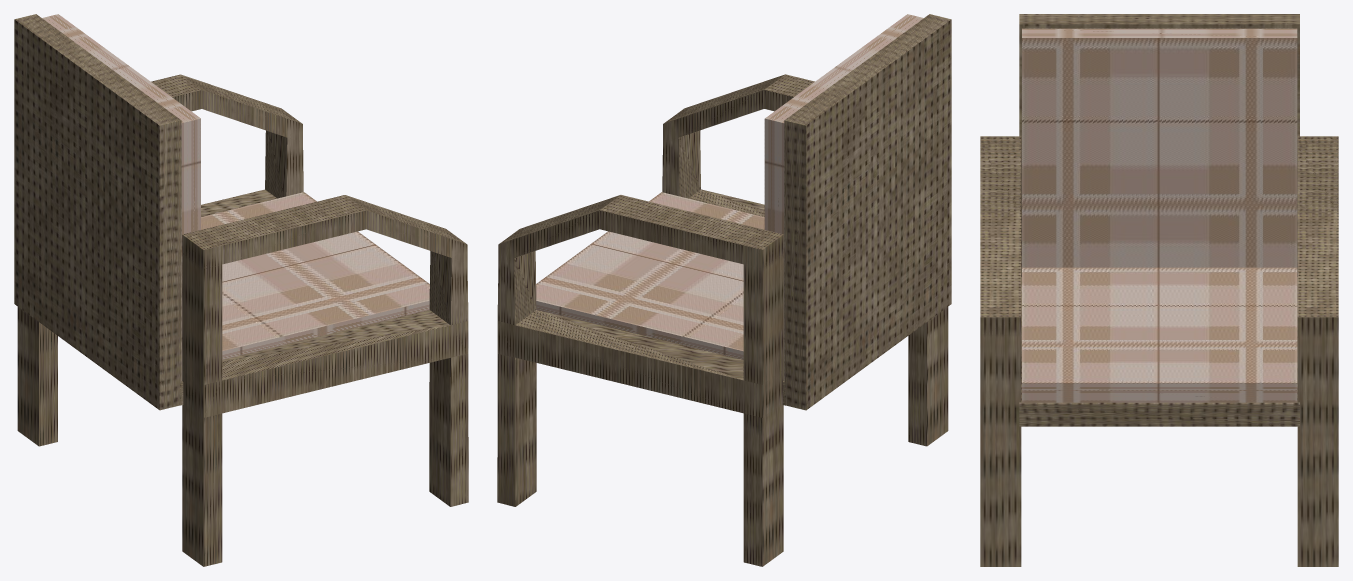
File: Silla.fbx
The picture shows the model from 3 angles, left to right: view 1: azimuth 30°, elevation 25°; view 2: azimuth 150°, elevation 25°; view 3: azimuth 270°, elevation 25°; orthographic projection. The views are drawn at different scales.
Visible parts, largest first — view 1: Cube.003, Cube.002, Cube, Cube.001; view 2: Cube.003, Cube.001, Cube, Cube.002; view 3: Cube, Cube.002, Cube.001, Cube.003.
Boxes of the visible parts, <box> form: Cube.003: <box>14,14,183,410</box>; Cube.002: <box>182,195,468,566</box>; Cube: <box>42,14,429,380</box>; Cube.001: <box>17,74,303,446</box>; Cube.003: <box>782,14,951,410</box>; Cube.001: <box>497,195,783,566</box>; Cube: <box>536,14,923,380</box>; Cube.002: <box>662,74,948,446</box>; Cube: <box>1022,28,1297,402</box>; Cube.002: <box>980,136,1021,566</box>; Cube.001: <box>1297,136,1338,566</box>; Cube.003: <box>1019,14,1299,426</box>.
Size of the model in its own units: 359 by 507 by 395.
3 materials, 3 textured.
